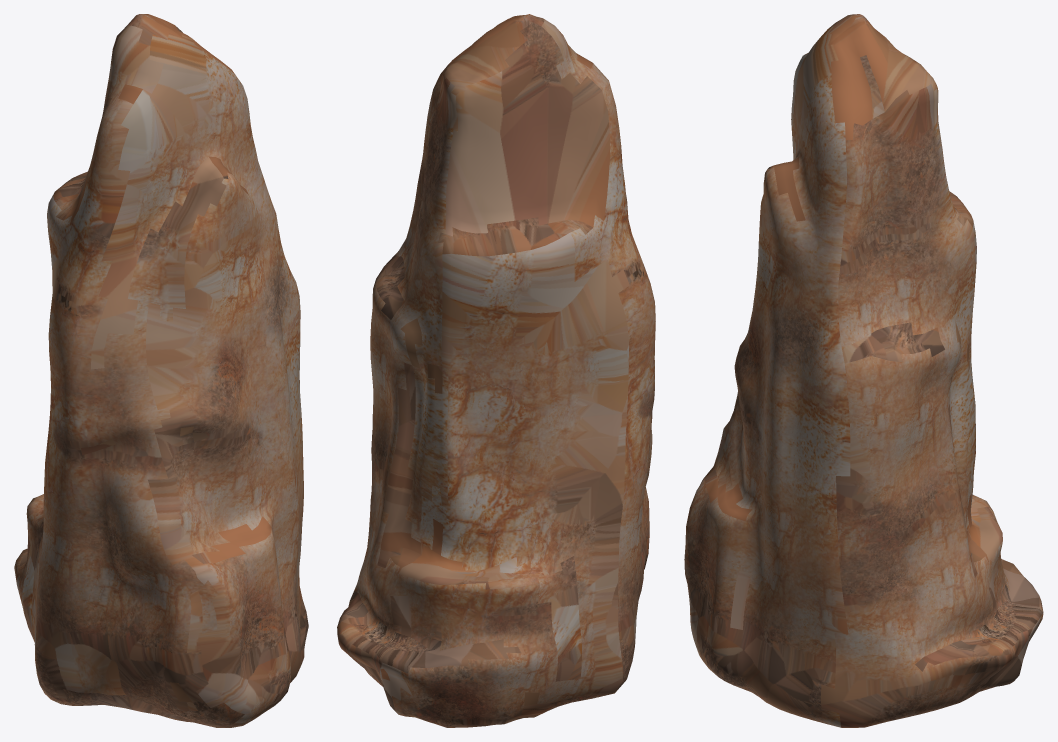
Rendered from rockBig01.fbx.
3 views of the same model, side by side, from view 1: azimuth 30°, elevation 25°; view 2: azimuth 150°, elevation 25°; view 3: azimuth 270°, elevation 25° (orthographic). The views are drawn at different scales.
Visible parts, largest first — view 1: rockBig01; view 2: rockBig01; view 3: rockBig01.
Part boxes in pixels (bbox=[...]): rockBig01: bbox=[14, 14, 308, 727]; rockBig01: bbox=[337, 14, 655, 727]; rockBig01: bbox=[684, 14, 1043, 727].
Size of the model in its own units: 2.37 by 6.09 by 2.99.
